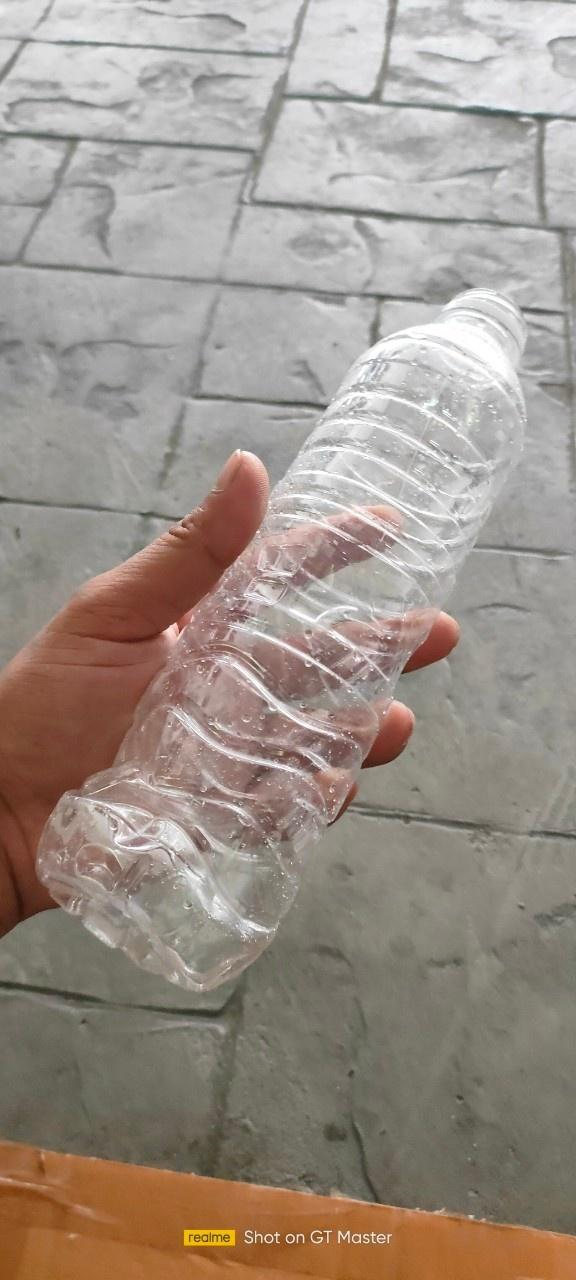plastic_bottle: (36, 288, 527, 989)
